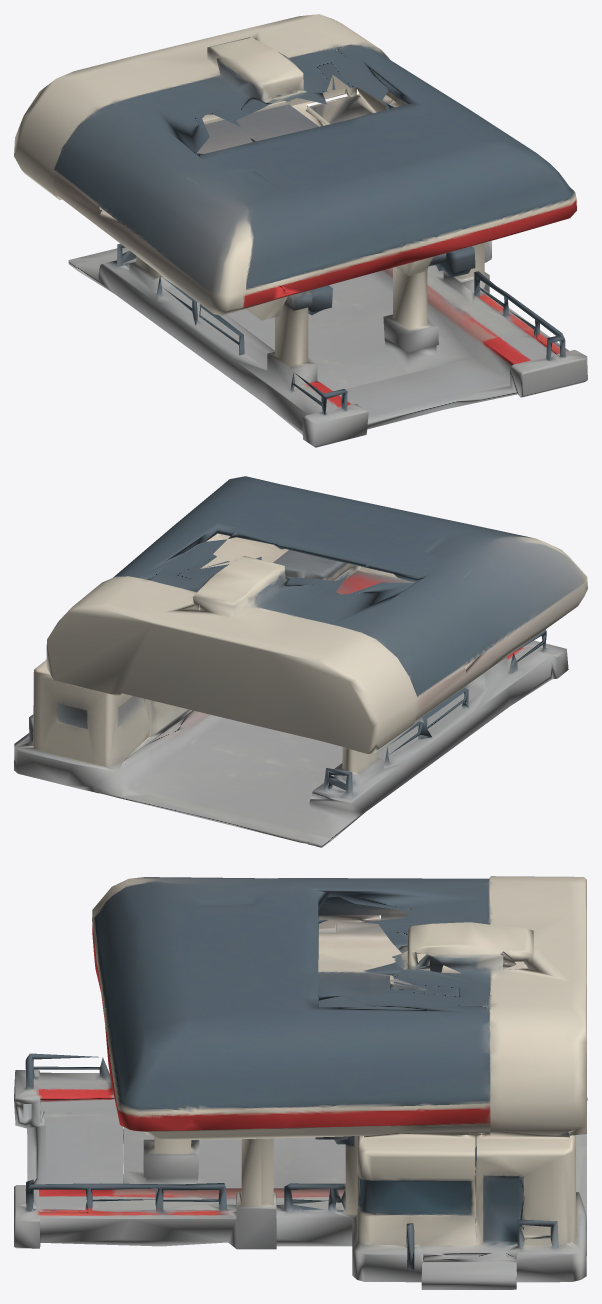
Rendered from station.glb.
The picture shows the model from 3 angles, top to bottom: view 1: azimuth 30°, elevation 25°; view 2: azimuth 150°, elevation 25°; view 3: azimuth 270°, elevation 25°; orthographic projection. The views are drawn at different scales.
Visible parts, largest first — view 1: tripo_node_f787430b-575e-4ca6-9130-0a96d549cce6; view 2: tripo_node_f787430b-575e-4ca6-9130-0a96d549cce6; view 3: tripo_node_f787430b-575e-4ca6-9130-0a96d549cce6.
Part boxes in pixels (x1=…): tripo_node_f787430b-575e-4ca6-9130-0a96d549cce6: x1=14, y1=14, x2=587, y2=447; tripo_node_f787430b-575e-4ca6-9130-0a96d549cce6: x1=14, y1=476, x2=587, y2=847; tripo_node_f787430b-575e-4ca6-9130-0a96d549cce6: x1=14, y1=876, x2=587, y2=1289.
Bounding box in the file's own units: 0.9326 × 0.4684 × 1.
Materials: 1 (1 with a texture image).
